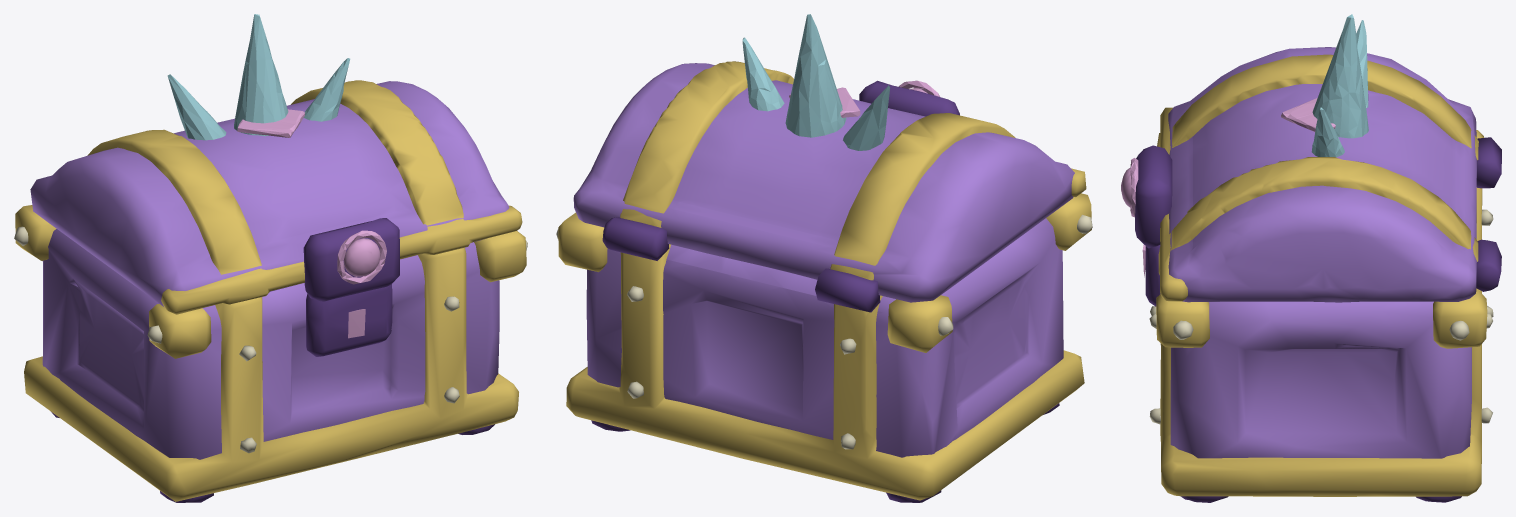
Rendered from box_legendaire.glb.
3 renders of one model, left to right at view 1: azimuth 30°, elevation 25°; view 2: azimuth 150°, elevation 25°; view 3: azimuth 270°, elevation 25°, orthographic. The views are drawn at different scales.
Visible parts, largest first — view 1: body, lid, crystal, lid_glow; view 2: body, lid, crystal, lid_glow; view 3: lid, body, crystal, lid_glow.
Part boxes in pixels (x1,y1,x2,y2): body: (14, 205, 527, 502); lid: (30, 80, 522, 314); crystal: (167, 14, 350, 140); lid_glow: (237, 109, 386, 284); body: (556, 193, 1092, 502); lid: (573, 61, 1086, 312); crystal: (742, 14, 889, 150); lid_glow: (789, 80, 939, 117); lid: (1121, 47, 1501, 302); body: (1145, 130, 1493, 502); crystal: (1311, 14, 1368, 157); lid_glow: (1130, 98, 1335, 217).
Size of the model in its own units: 1.08 by 1.07 by 0.9095.
